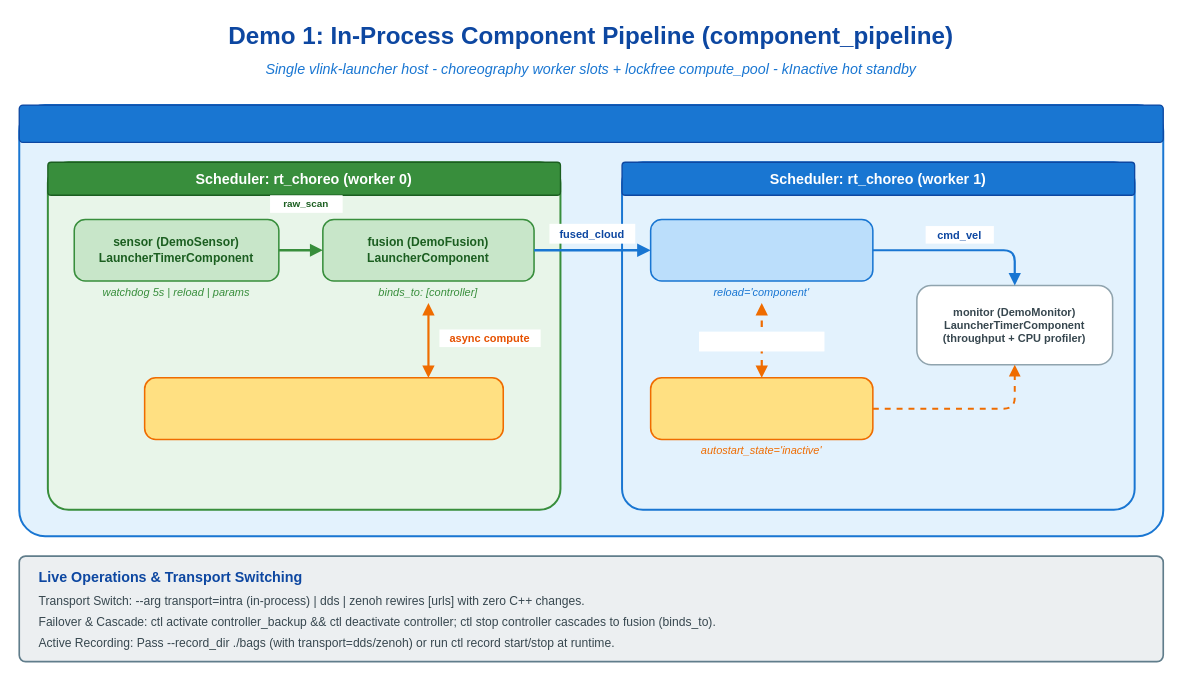
Image size: 1184x681. Some labels were removed from this diagram. Here are the shapes that lost their labels. From the top down, the box of each, then its label:
(18, 104, 1163, 143): Host Process: vlink-launcher run demo_launch.toml
(649, 218, 873, 281): controller (DemoController) mode='primary' [kReady]
(698, 331, 824, 351): activate / deactivate
(143, 377, 503, 440): compute_pool (lockfree ThreadPool, 2 threads) ctx.post_compute_task() offload
(649, 377, 873, 440): controller_backup mode='backup' [kInactive]
